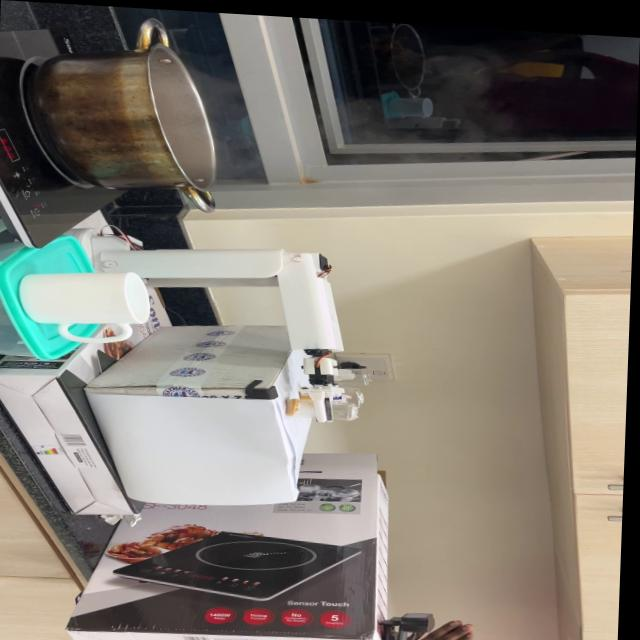cooking_pot: (26, 9, 228, 211)
garlic_powder: (284, 392, 303, 414)
